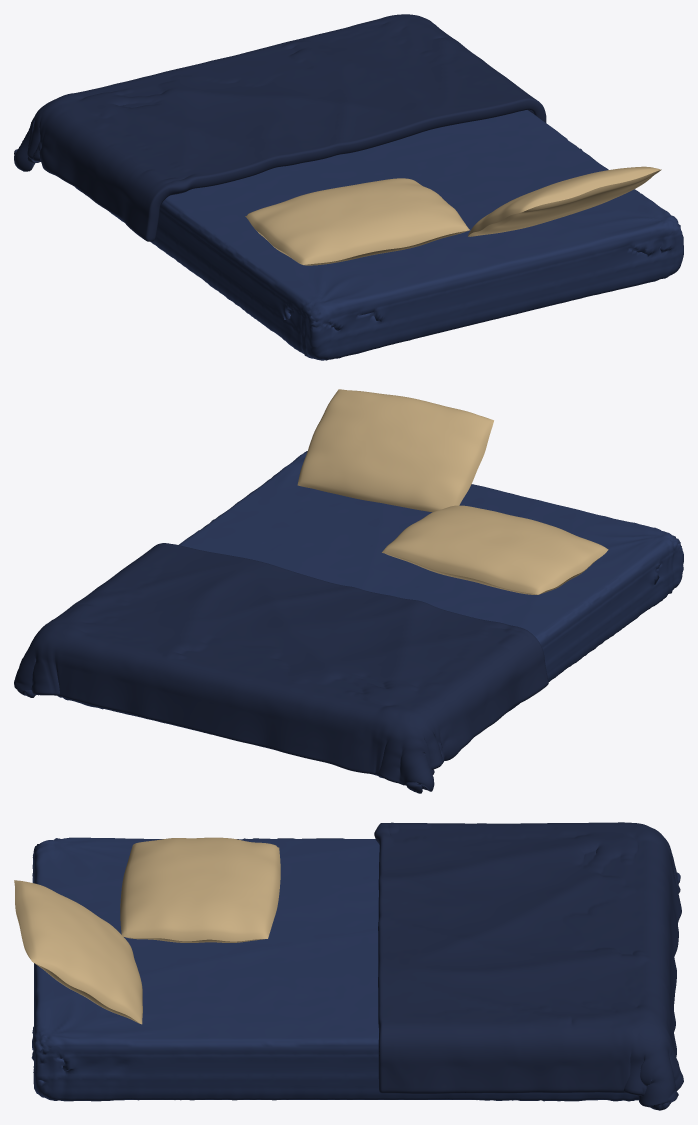
File: bed.glb
3 views of the same model, one above another, from view 1: azimuth 30°, elevation 25°; view 2: azimuth 150°, elevation 25°; view 3: azimuth 270°, elevation 25° (orthographic). The views are drawn at different scales.
Visible parts, largest first — view 1: Kf1_Bed; view 2: Kf1_Bed; view 3: Kf1_Bed.
Part boxes in pixels (bbox=[...]): Kf1_Bed: bbox=[14, 14, 683, 360]; Kf1_Bed: bbox=[14, 389, 683, 793]; Kf1_Bed: bbox=[14, 822, 683, 1110].
Bounding box in the file's own units: 1.81 × 0.499 × 2.2.
